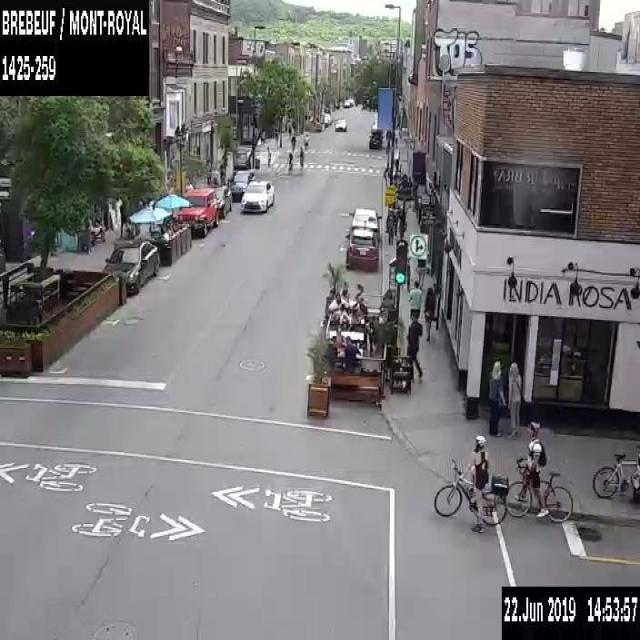cyclist: (433, 432, 508, 532), (508, 421, 573, 521)
pedestrian: (486, 360, 504, 436), (506, 361, 524, 436), (406, 318, 422, 382), (408, 278, 424, 342), (424, 287, 434, 340), (344, 333, 359, 368), (331, 304, 348, 328), (327, 289, 346, 309), (396, 206, 406, 242), (386, 208, 395, 244), (326, 339, 336, 370), (330, 327, 346, 346), (348, 308, 361, 330), (339, 280, 350, 294), (265, 145, 271, 167), (285, 152, 292, 169), (385, 125, 390, 148), (299, 145, 304, 168), (274, 124, 278, 148), (355, 283, 363, 295), (303, 132, 308, 149), (394, 126, 398, 146), (291, 136, 295, 150)
vehicle: (101, 238, 159, 298), (174, 184, 215, 236), (344, 228, 382, 271), (344, 204, 382, 238), (241, 178, 274, 211), (225, 168, 254, 200), (203, 184, 231, 217), (369, 128, 383, 148), (319, 111, 332, 124), (334, 118, 346, 130), (343, 98, 352, 106)
